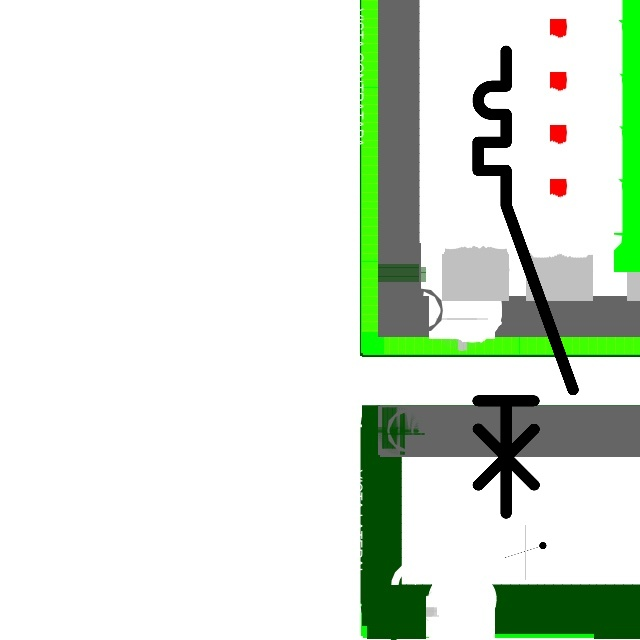interruptor_termomagnetico: (466, 39, 585, 524)
